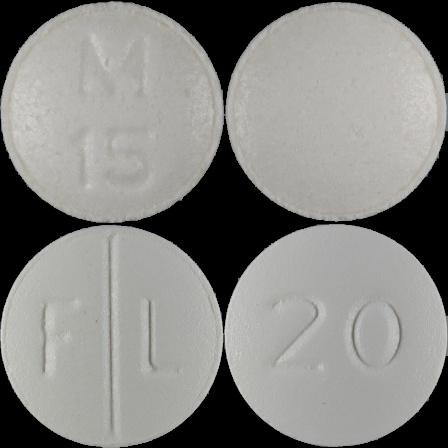33261-685: (0, 0, 224, 224)
